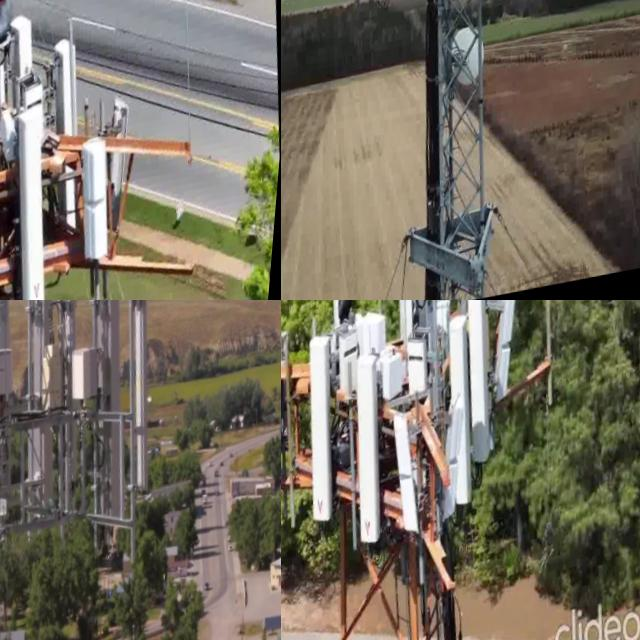GSM Antenna: (74, 300, 155, 539), (10, 300, 81, 528), (42, 300, 105, 544), (435, 315, 497, 529), (344, 355, 406, 560), (299, 330, 359, 535), (6, 112, 69, 300), (118, 300, 173, 495), (456, 300, 511, 474), (78, 139, 128, 278), (105, 100, 150, 241), (390, 418, 437, 553), (485, 300, 534, 421), (49, 35, 90, 150), (5, 1, 46, 109), (444, 26, 499, 98), (0, 300, 29, 417), (281, 363, 294, 487)
